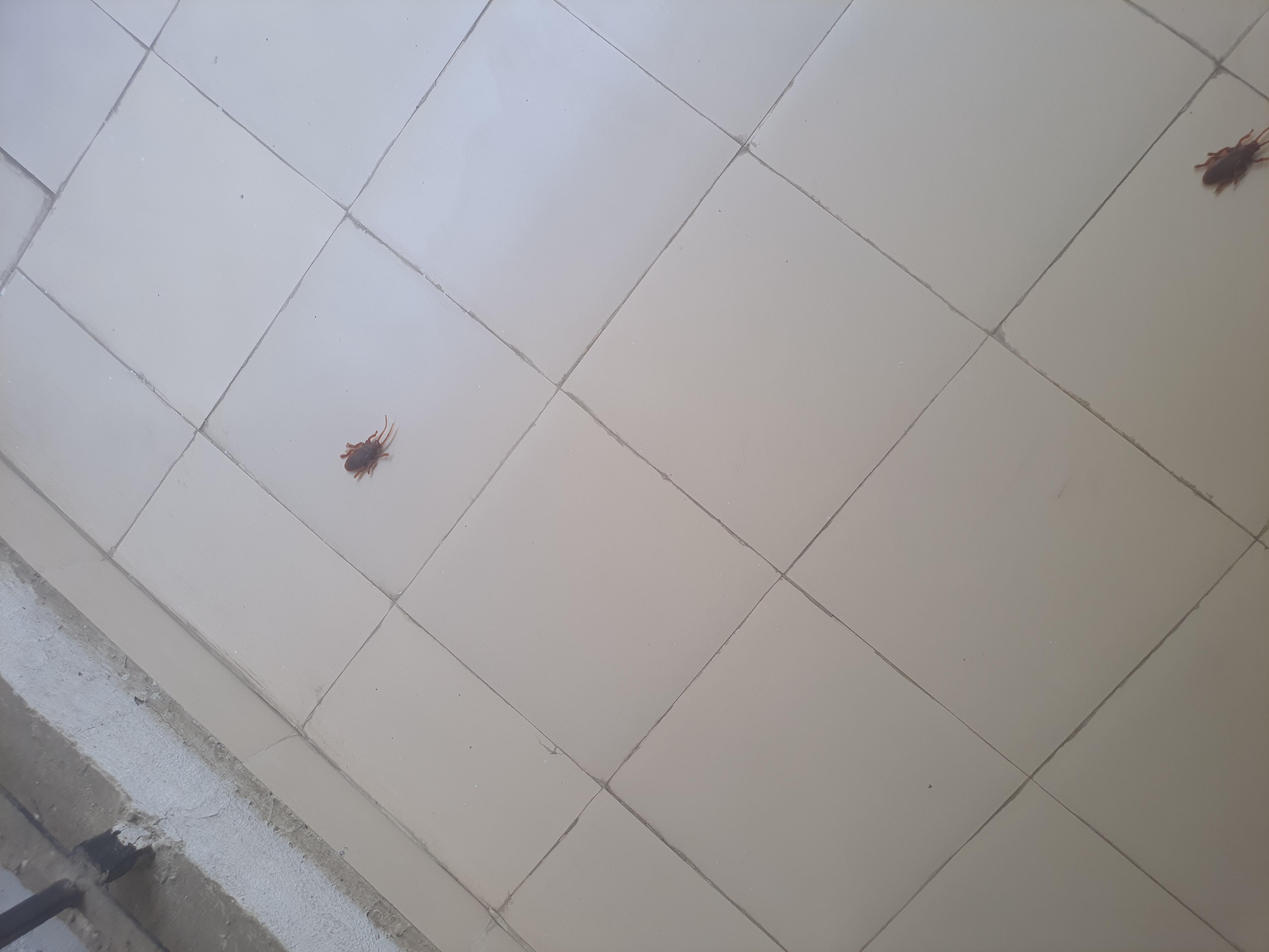cockroach: (605, 244, 706, 298)
